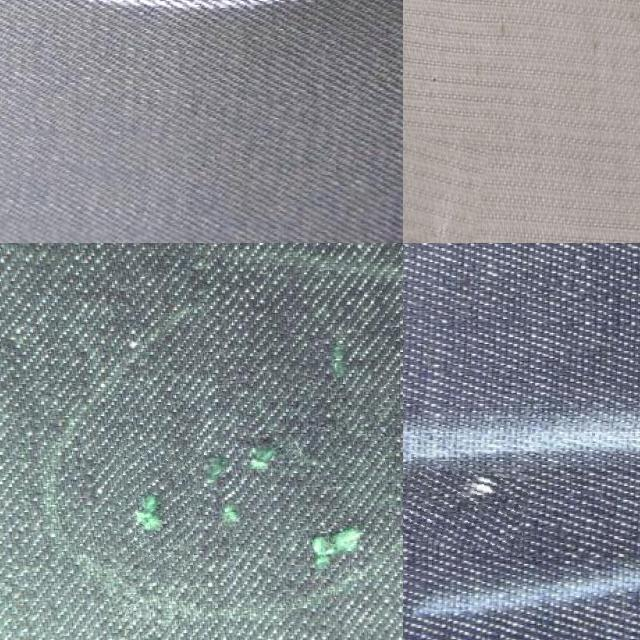Thread_other: (205, 369, 297, 552), (108, 440, 200, 566), (403, 460, 529, 552), (296, 502, 378, 598), (315, 304, 380, 424)
